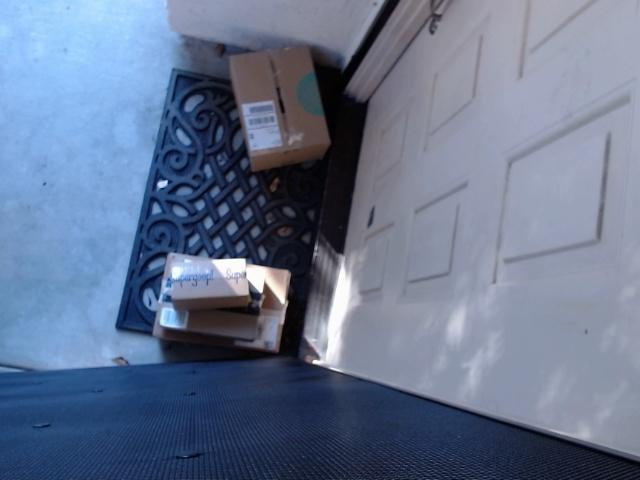box: (143, 246, 307, 354), (214, 39, 344, 169), (152, 258, 270, 341), (158, 254, 263, 306)
